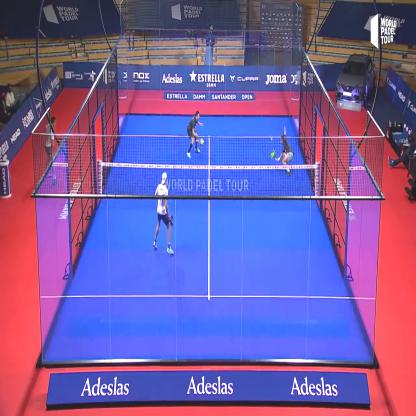ball: (270, 134, 274, 146)
